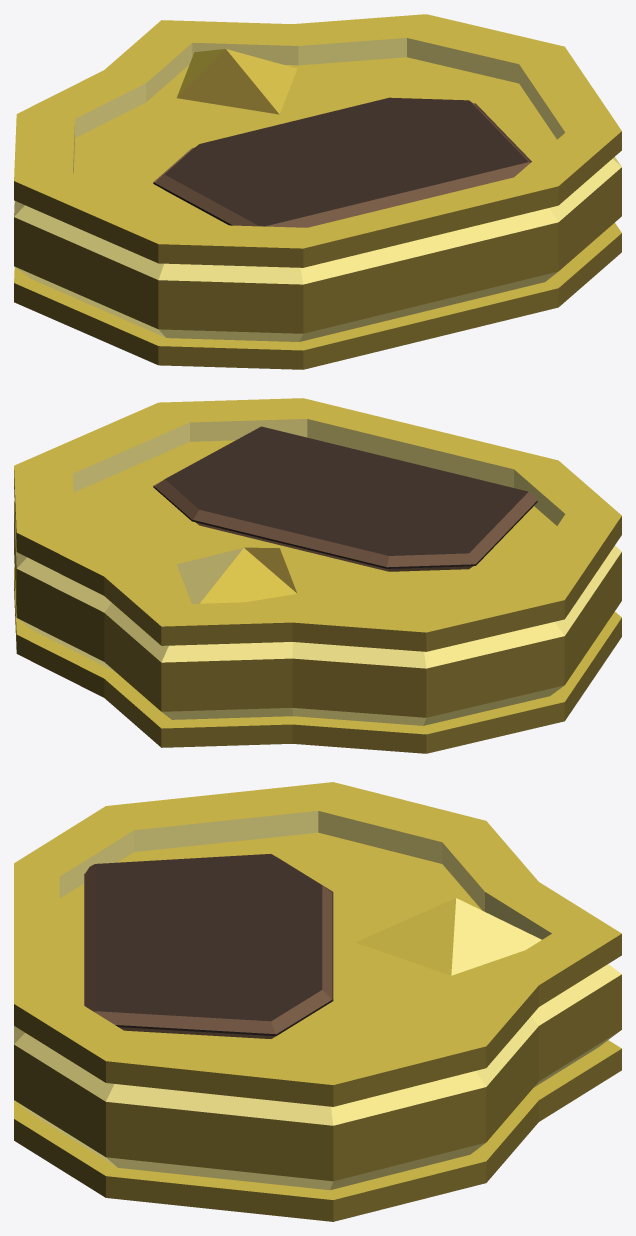
The model's file is gold_shield.fbx.
3 renders of one model, top to bottom at view 1: azimuth 30°, elevation 25°; view 2: azimuth 150°, elevation 25°; view 3: azimuth 270°, elevation 25°, orthographic. The views are drawn at different scales.
Parts seen in each view (by area): view 1: gold_shield; view 2: gold_shield; view 3: gold_shield.
Boxes of the visible parts, bbox=[...] form: gold_shield: bbox=[14, 14, 621, 369]; gold_shield: bbox=[14, 398, 621, 753]; gold_shield: bbox=[14, 782, 621, 1221].
Size of the model in its own units: 1.64 by 0.5 by 1.39.
Materials: 1 (1 with a texture image).
